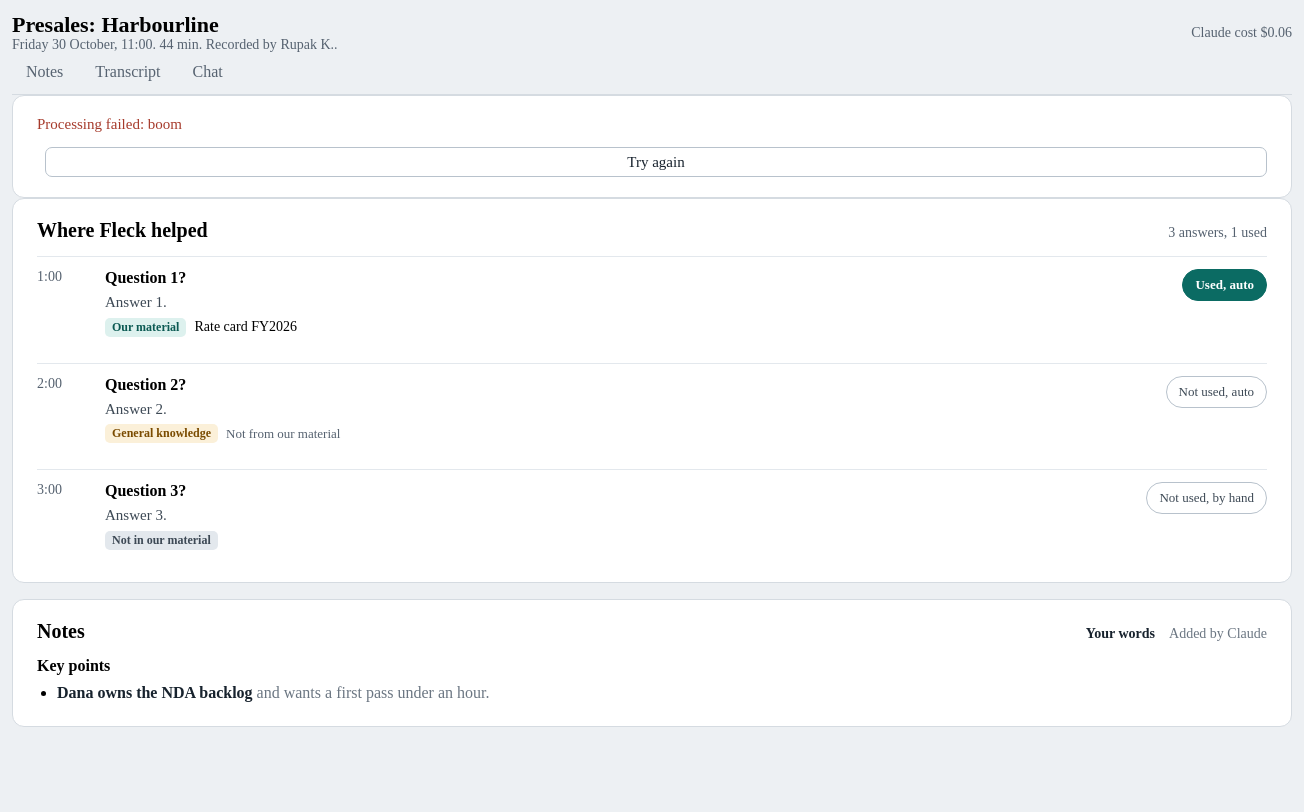
Scenario: a failed retry says so
Expected: the heading "Presales: Harbourline" is shown, x1=12 y1=12 x2=219 y2=37
Click the button "Try again" at (656, 162), box x1=45 y1=147 x2=1267 y2=177
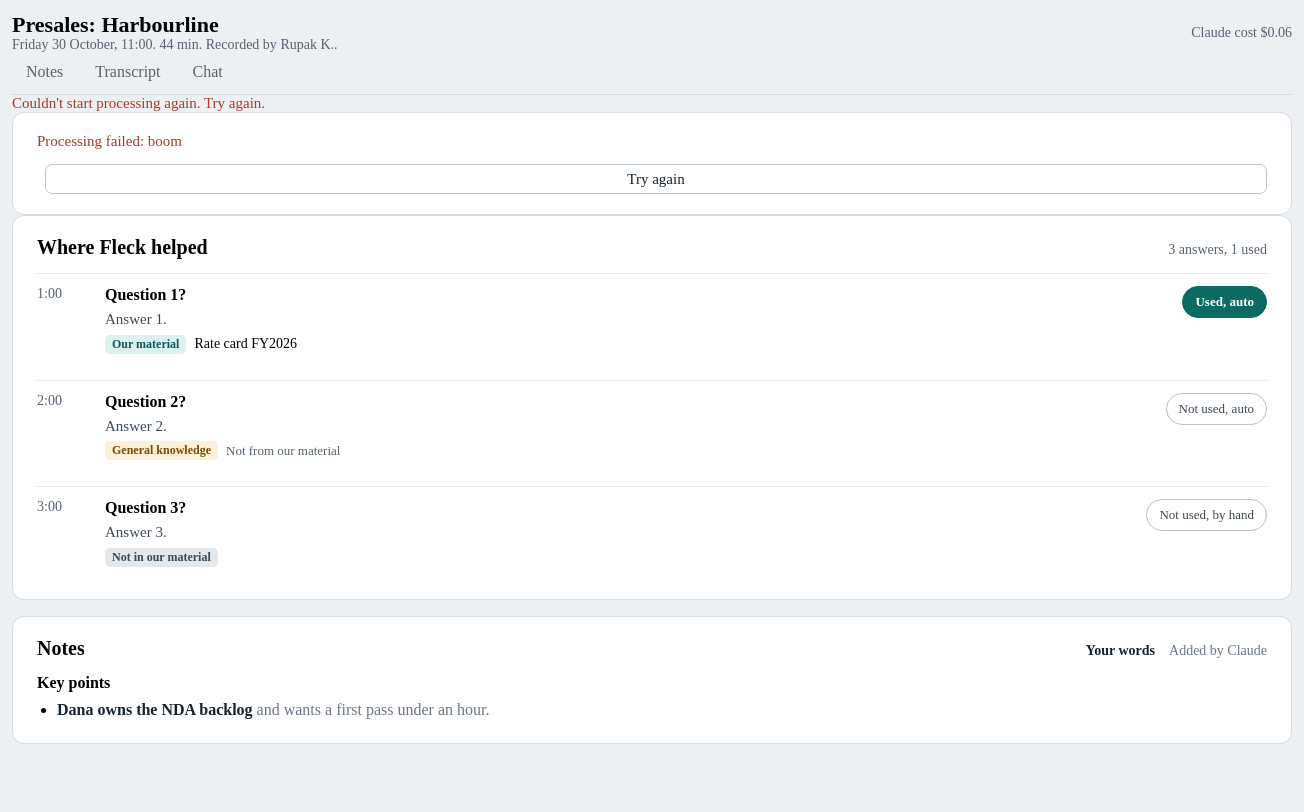
Expected: the text "Couldn't start processing again. Try again." is shown, x1=12 y1=95 x2=265 y2=111
